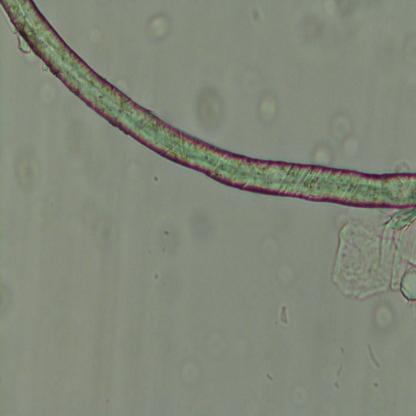Background material: (330, 206, 416, 305), (146, 224, 193, 318), (292, 1, 366, 48), (64, 198, 124, 253), (329, 115, 362, 161), (195, 86, 225, 133), (166, 353, 205, 387), (262, 245, 294, 284), (144, 10, 172, 45), (333, 336, 350, 390), (372, 303, 399, 336), (17, 155, 41, 190), (255, 90, 279, 124), (398, 30, 416, 72), (0, 287, 20, 324), (287, 378, 310, 409), (309, 143, 334, 168), (38, 81, 58, 107), (248, 4, 266, 29), (365, 338, 379, 369), (202, 331, 223, 347), (278, 304, 290, 324)
Microfibre: (0, 3, 416, 209)
